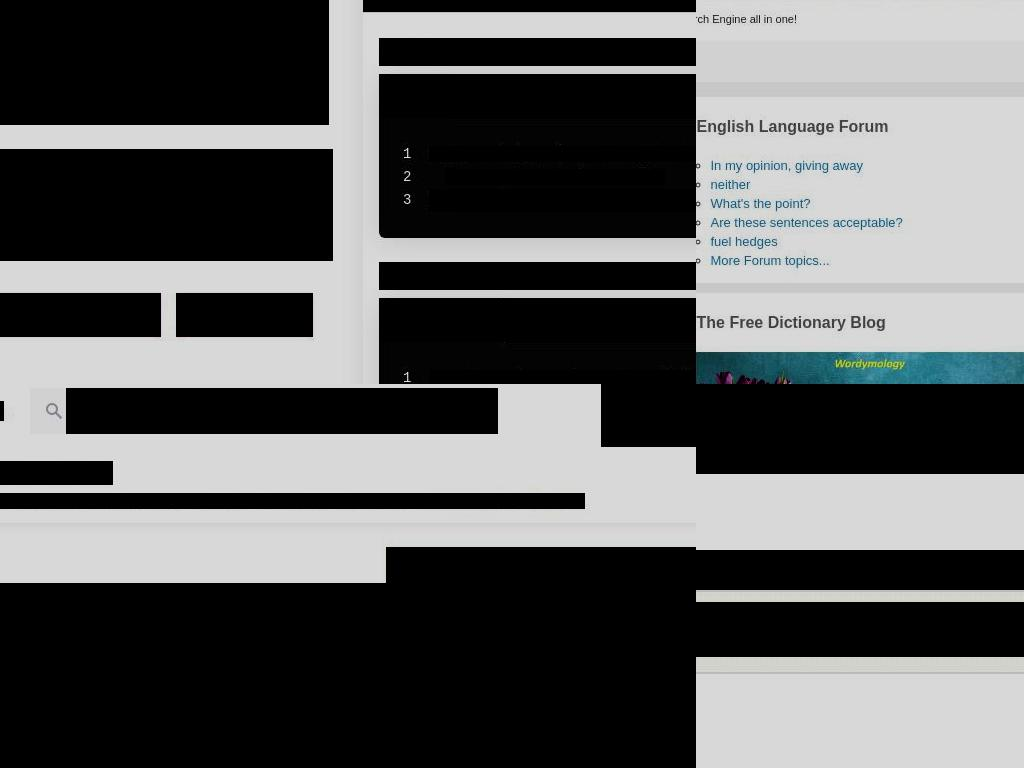button: (0, 293, 161, 337), (176, 293, 313, 337), (601, 384, 696, 447), (379, 298, 504, 342), (503, 298, 628, 342), (0, 707, 73, 755), (0, 304, 161, 325), (363, 0, 628, 12), (379, 74, 451, 118), (450, 74, 522, 118), (521, 74, 593, 118), (592, 74, 664, 118), (628, 298, 696, 342), (176, 304, 313, 325), (663, 74, 696, 118)
field: (66, 388, 498, 434)
heading: (0, 0, 329, 125), (0, 647, 696, 679), (0, 619, 696, 647), (379, 38, 696, 66), (379, 262, 696, 290), (696, 117, 889, 136), (696, 313, 886, 332), (696, 12, 798, 25), (0, 721, 25, 741), (37, 723, 53, 739)
iframe: (696, 269, 996, 384)
image: (0, 583, 520, 768), (386, 547, 696, 768), (696, 384, 1024, 474), (42, 399, 66, 423), (676, 401, 696, 425)
link: (710, 214, 903, 230), (710, 157, 863, 173), (710, 252, 830, 268), (710, 195, 811, 211), (710, 233, 778, 249), (437, 493, 499, 509), (529, 493, 581, 509), (710, 176, 751, 192)
text: (0, 149, 333, 261), (696, 550, 1024, 590), (0, 493, 437, 509), (696, 602, 885, 636), (429, 189, 696, 212), (885, 602, 1024, 636), (696, 416, 829, 449), (696, 636, 885, 657), (696, 384, 859, 406), (922, 416, 1024, 449), (454, 370, 690, 384), (885, 636, 1024, 657), (895, 384, 1024, 406), (0, 461, 113, 485), (429, 146, 563, 162), (555, 169, 665, 185), (563, 146, 665, 162), (445, 169, 521, 185), (621, 401, 673, 421), (521, 169, 556, 185), (499, 493, 529, 509), (429, 370, 454, 384), (664, 146, 682, 162), (581, 493, 585, 509)
